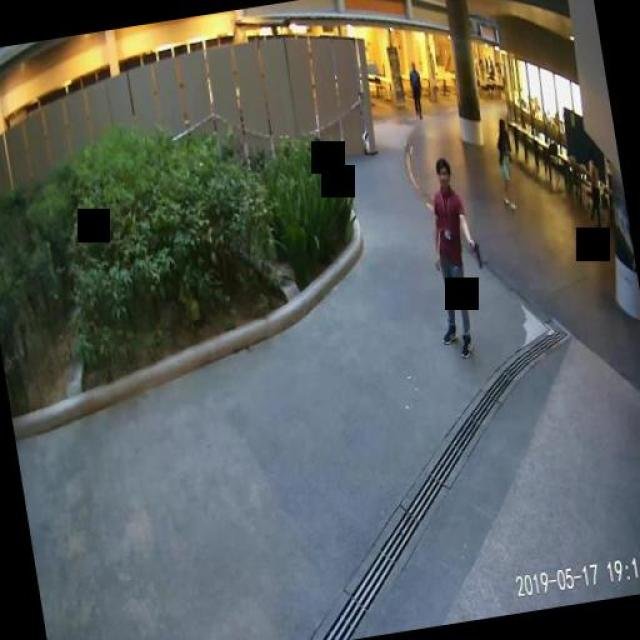gun: (466, 239, 480, 270)
